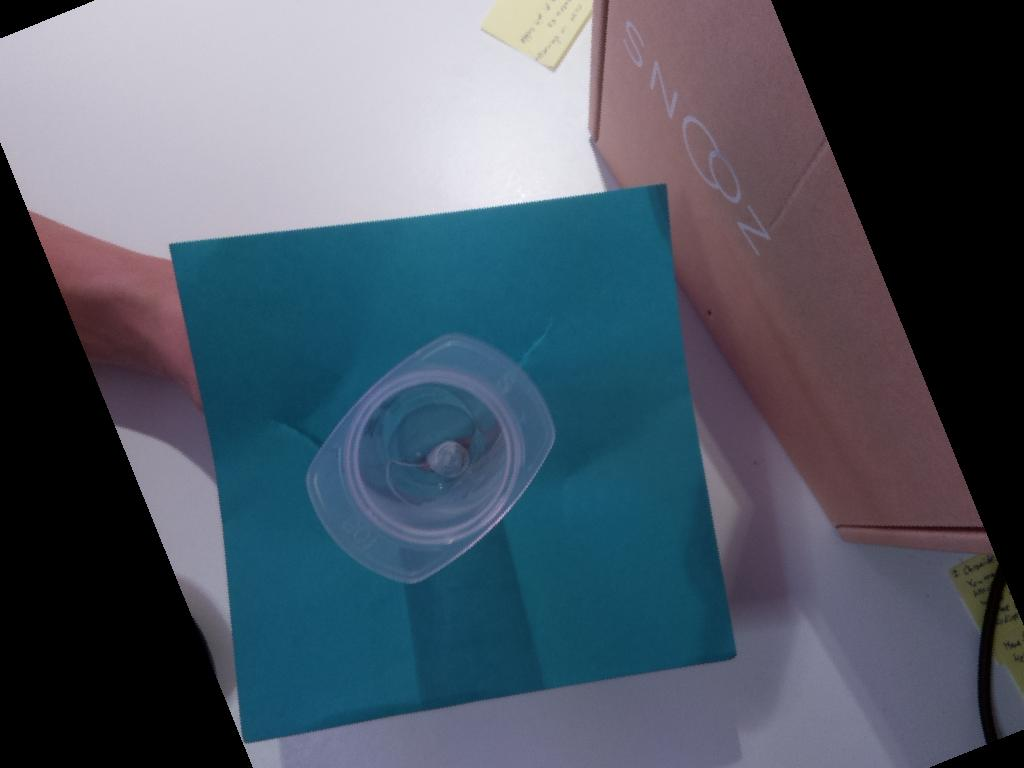clean: (305, 329, 559, 585)
